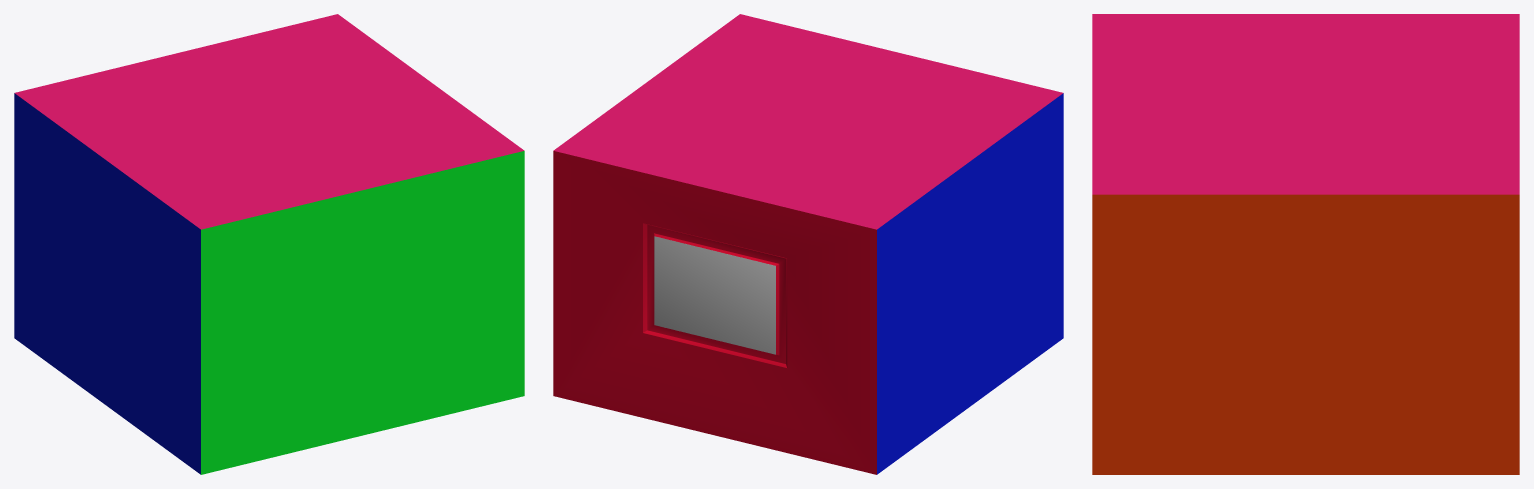
The model's file is RoomEmpty 1.fbx.
3 renders of one model, left to right at view 1: azimuth 30°, elevation 25°; view 2: azimuth 150°, elevation 25°; view 3: azimuth 270°, elevation 25°, orthographic. The views are drawn at different scales.
Parts seen in each view (by area): view 1: Wall2, Wall1, Wall3; view 2: WindowWall, Wall1, Wall3; view 3: Ceiling, Wall1.
Part boxes in pixels (x1,y1,x2,y2): Wall2: [201, 151, 524, 474]; Wall1: [15, 14, 524, 229]; Wall3: [14, 93, 200, 474]; WindowWall: [553, 151, 876, 474]; Wall1: [553, 14, 1062, 229]; Wall3: [877, 93, 1063, 474]; Ceiling: [1092, 194, 1519, 474]; Wall1: [1092, 14, 1519, 194].
Size of the model in its own units: 390 by 282 by 390.
